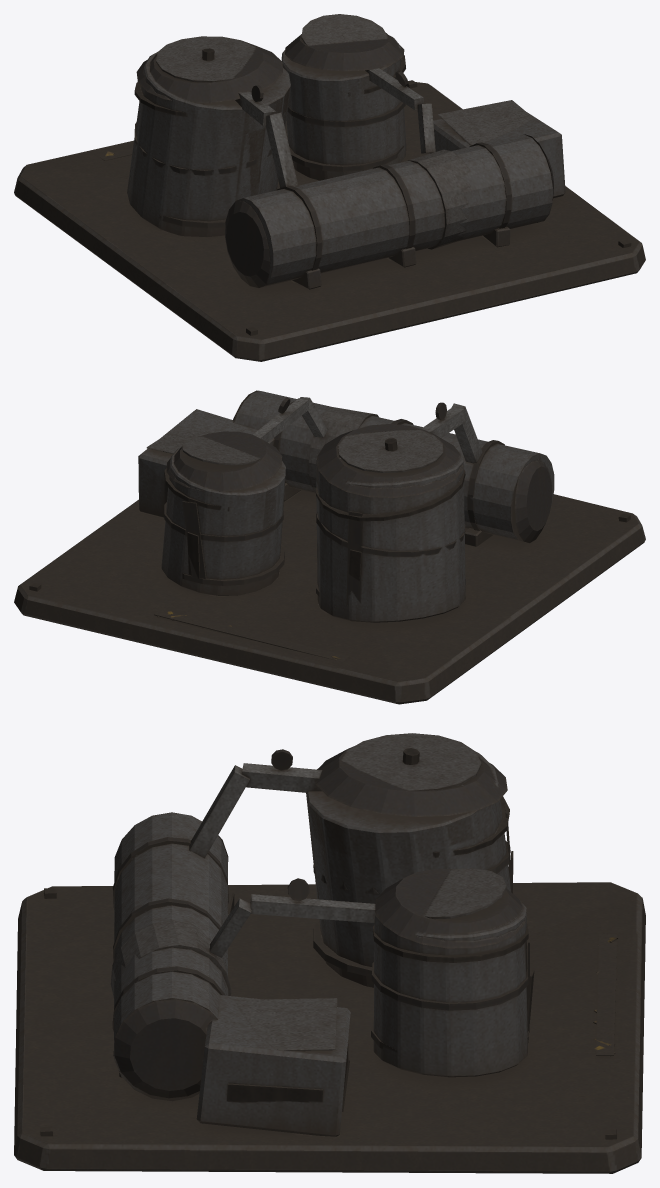
File: chs_depot_wreck.fbx
3 renders of one model, top to bottom at view 1: azimuth 30°, elevation 25°; view 2: azimuth 150°, elevation 25°; view 3: azimuth 270°, elevation 25°, orthographic. The views are drawn at different scales.
Visible parts, largest first — view 1: base_bar; view 2: base_bar; view 3: base_bar.
Part boxes in pixels (bbox=[...]): base_bar: bbox=[14, 14, 645, 361]; base_bar: bbox=[14, 390, 645, 704]; base_bar: bbox=[14, 733, 645, 1173].
Size of the model in its own units: 1564 by 839 by 1580.
2 materials, 2 textured.
